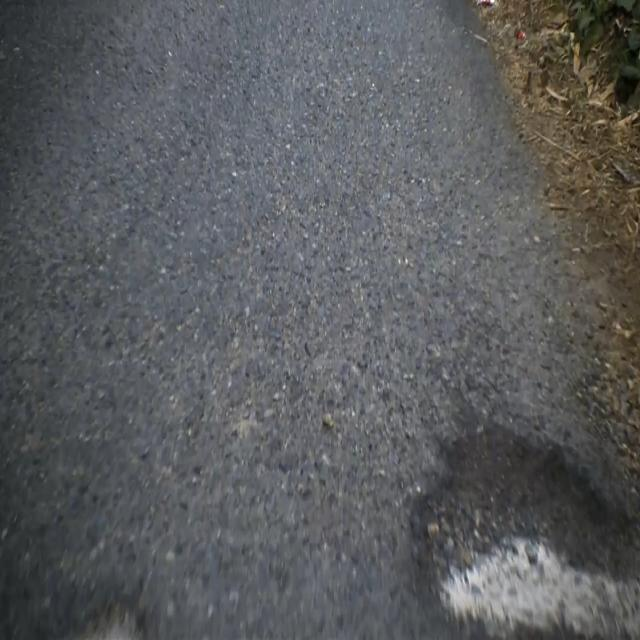Buraco: (403, 415, 640, 640), (47, 590, 154, 640)
